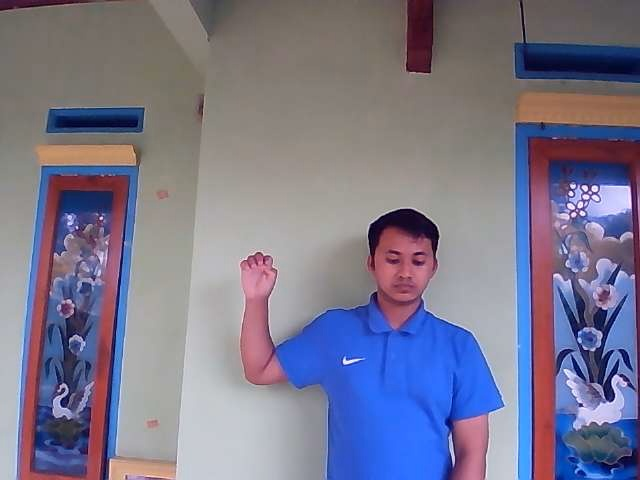E: (239, 251, 278, 301)
